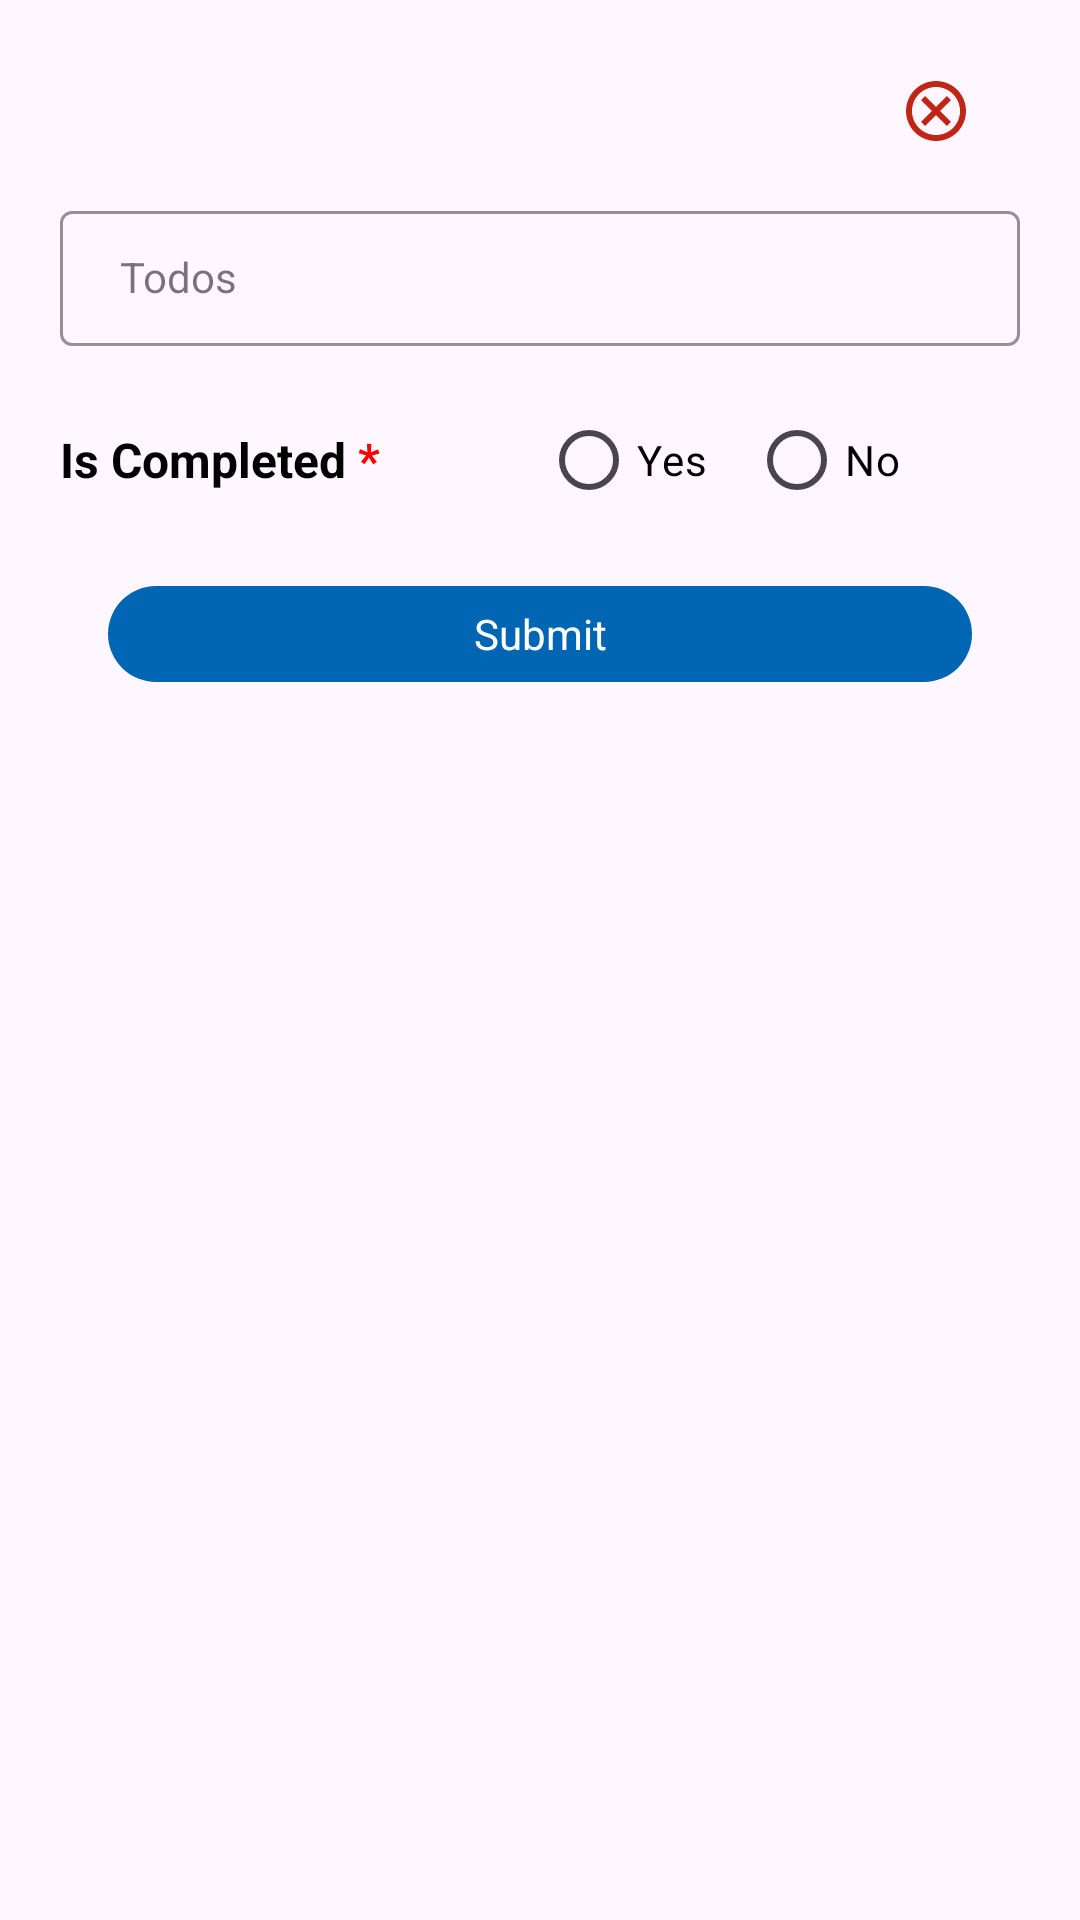

Screen size 1080px x 1920px. Icon name, then its box in pixels as (x1, y1, x2, y2):
cancel: (906, 81, 966, 141)
